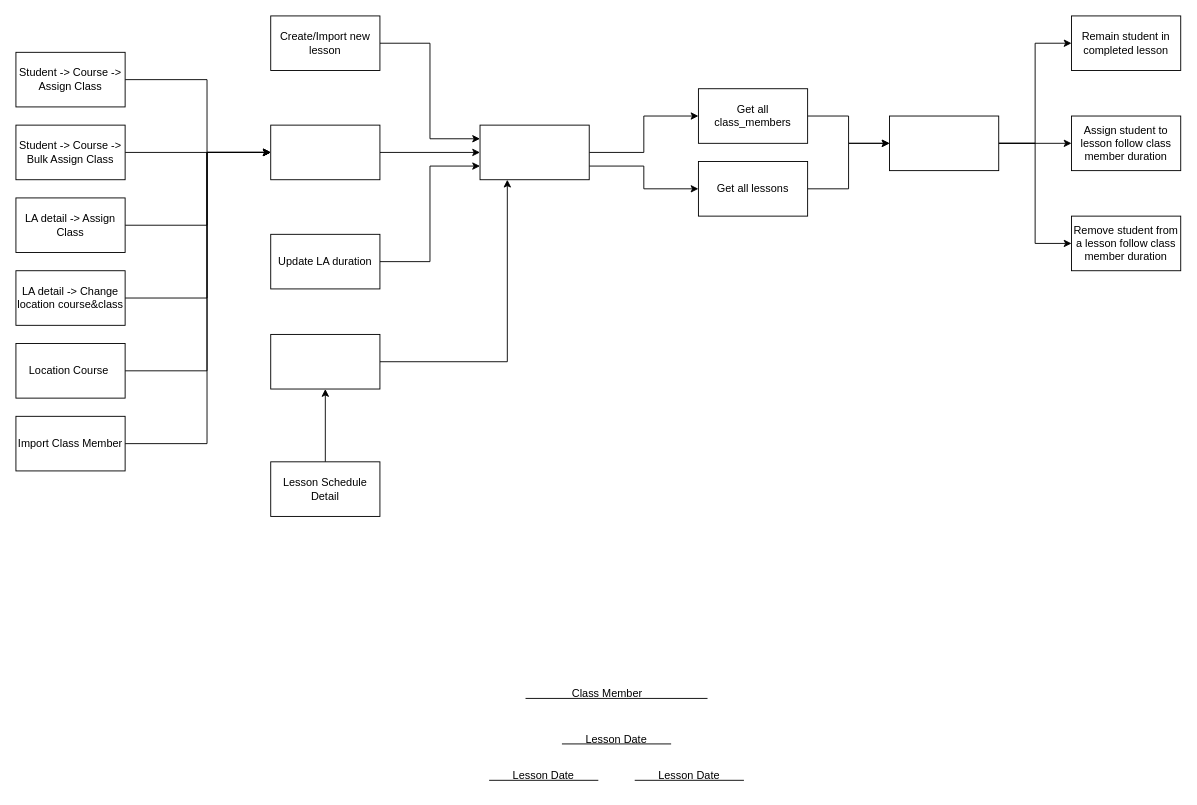
This 1197x805 diagram has some shape labels left out. The shapes that lost their labels are listed below. From the top down, each one's box as (x1, y1, x2, y2) in pixels, then its label:
(270, 124, 380, 180): Assign a class
(479, 124, 589, 180): Run Master Queue
(889, 115, 999, 171): Mapping
(270, 334, 380, 389): Update lesson schedule class
